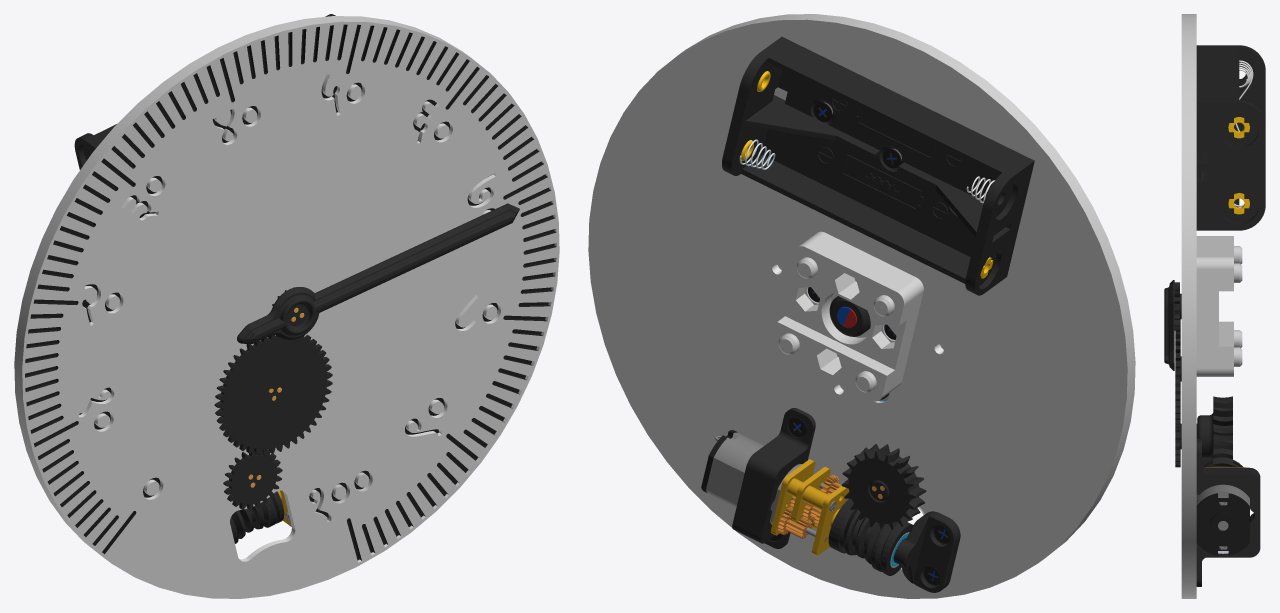
The model's file is Face_with_tick_gear_system_compressed.glb.
3 renders of one model, left to right at view 1: azimuth 30°, elevation 25°; view 2: azimuth 150°, elevation 25°; view 3: azimuth 270°, elevation 25°, orthographic. The views are drawn at different scales.
Visible parts, largest first — view 1: Face, 45_1_gear, ticktock, 21_1_gear, Gobloid_worm, 2xaaa_battery_holder_1_2_3_1; view 2: Face, 2xaaa_battery_holder_1_2_3_1, AS5600_chinaModuleHolder, MotorHolder_back, Gobloid_wheel, worm_gear_shaft, Gobloid_worm, MicroMotorN20.002, MicroMotorN20Pieza3, MicroMotorN20Pieza1.002, magnet_holder, MicroMotorN20Pieza2.001; view 3: 2xaaa_battery_holder_1_2_3_1, Face, AS5600_chinaModuleHolder, MicroMotorN20, MotorHolder_back, Gobloid_wheel, ticktock, 45_1_gear, MicroMotorN20.002, 16_1_gear, 2xaaa_battery_holder_1_2_3_7, 2xaaa_battery_holder_1_2_3_6 (+2 smaller).
Part boxes in pixels (left/top/right/bottom): Face: left=14, top=16, right=559, bottom=598; 45_1_gear: left=214, top=335, right=332, bottom=454; ticktock: left=237, top=203, right=519, bottom=344; 21_1_gear: left=223, top=449, right=282, bottom=510; Gobloid_worm: left=230, top=491, right=284, bottom=543; 2xaaa_battery_holder_1_2_3_1: left=74, top=14, right=335, bottom=169; Face: left=588, top=14, right=1135, bottom=598; 2xaaa_battery_holder_1_2_3_1: left=722, top=36, right=1034, bottom=295; AS5600_chinaModuleHolder: left=772, top=231, right=923, bottom=401; MotorHolder_back: left=732, top=408, right=815, bottom=548; Gobloid_wheel: left=841, top=444, right=926, bottom=530; worm_gear_shaft: left=893, top=511, right=960, bottom=592; Gobloid_worm: left=828, top=498, right=912, bottom=575; MicroMotorN20.002: left=706, top=432, right=802, bottom=524; MicroMotorN20Pieza3: left=811, top=486, right=849, bottom=555; MicroMotorN20Pieza1.002: left=770, top=459, right=815, bottom=535; magnet_holder: left=829, top=296, right=870, bottom=336; MicroMotorN20Pieza2.001: left=791, top=466, right=830, bottom=528; 2xaaa_battery_holder_1_2_3_1: left=1196, top=45, right=1265, bottom=230; Face: left=1181, top=14, right=1196, bottom=598; AS5600_chinaModuleHolder: left=1196, top=236, right=1242, bottom=376; MicroMotorN20: left=1196, top=493, right=1249, bottom=555; MotorHolder_back: left=1196, top=438, right=1260, bottom=586; Gobloid_wheel: left=1196, top=396, right=1232, bottom=467; ticktock: left=1164, top=280, right=1174, bottom=370; 45_1_gear: left=1175, top=319, right=1181, bottom=431; MicroMotorN20.002: left=1196, top=484, right=1249, bottom=553; 16_1_gear: left=1174, top=282, right=1181, bottom=330; 2xaaa_battery_holder_1_2_3_7: left=1228, top=193, right=1249, bottom=214; 2xaaa_battery_holder_1_2_3_6: left=1228, top=117, right=1249, bottom=138.
Bounding box in the file's own units: 0.11 × 0.11 × 0.0191.
